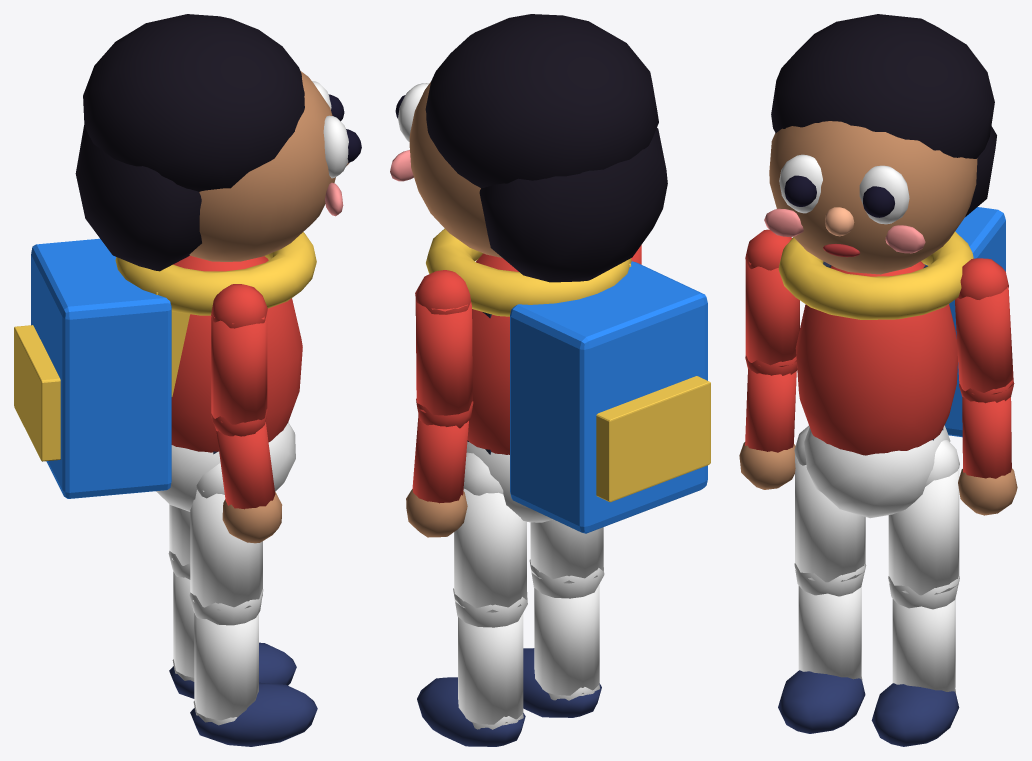
File: hrdina_3_stoji.glb
3 views of the same model, side by side, from view 1: azimuth 30°, elevation 25°; view 2: azimuth 150°, elevation 25°; view 3: azimuth 270°, elevation 25° (orthographic). The views are drawn at different scales.
Visible parts, largest first — view 1: Sphere.011, Cube.001, Sphere.002, Sphere.012, Sphere, Torus, Cylinder.004, Cylinder.005, Cylinder, Cube.002, Sphere.025, Cylinder.001 (+11 smaller); view 2: Cube.001, Sphere.011, Sphere.012, Cube.002, Cylinder.006, Cylinder.007, Cylinder.005, Torus, Cylinder.002, Sphere, Sphere.002, Cylinder.003 (+12 smaller); view 3: Sphere.011, Sphere, Sphere.002, Torus, Sphere.001, Cylinder.006, Cylinder.004, Cylinder.007, Cylinder.005, Cylinder.002, Cylinder, Sphere.025 (+21 smaller).
Part boxes in pixels (box(x1,y1,x2,y2)): Sphere.011: box(83, 14, 304, 191); Cube.001: box(31, 238, 171, 498); Sphere.002: box(189, 71, 335, 261); Sphere.012: box(75, 125, 201, 271); Sphere: box(171, 255, 302, 452); Torus: box(115, 232, 316, 315); Cylinder.004: box(190, 489, 262, 610); Cylinder.005: box(194, 613, 258, 720); Cylinder: box(211, 312, 267, 424); Cube.002: box(14, 325, 60, 461); Sphere.025: box(190, 682, 317, 746); Cylinder.001: box(216, 422, 275, 509); Cube.001: box(510, 261, 707, 533); Sphere.011: box(425, 14, 658, 188); Sphere.012: box(479, 128, 667, 282); Cube.002: box(596, 376, 710, 502); Cylinder.006: box(454, 488, 526, 612); Cylinder.007: box(458, 613, 523, 724); Cylinder.005: box(534, 584, 599, 695); Torus: box(426, 228, 631, 316); Cylinder.002: box(415, 299, 472, 415); Sphere: box(467, 253, 518, 454); Sphere.002: box(409, 82, 502, 257); Cylinder.003: box(412, 414, 468, 503); Sphere.011: box(771, 14, 994, 158); Sphere: box(795, 261, 957, 455); Sphere.002: box(769, 121, 977, 274); Torus: box(778, 231, 973, 319); Sphere.001: box(804, 425, 950, 518); Cylinder.006: box(888, 468, 959, 595); Cylinder.004: box(795, 455, 865, 582); Cylinder.007: box(892, 598, 955, 691); Cylinder.005: box(798, 586, 861, 679); Cylinder.002: box(955, 287, 1013, 394); Cylinder: box(745, 261, 799, 366); Sphere.025: box(778, 670, 865, 733).
Bounding box in the file's own units: 0.5769 × 1.27 × 0.4672.
